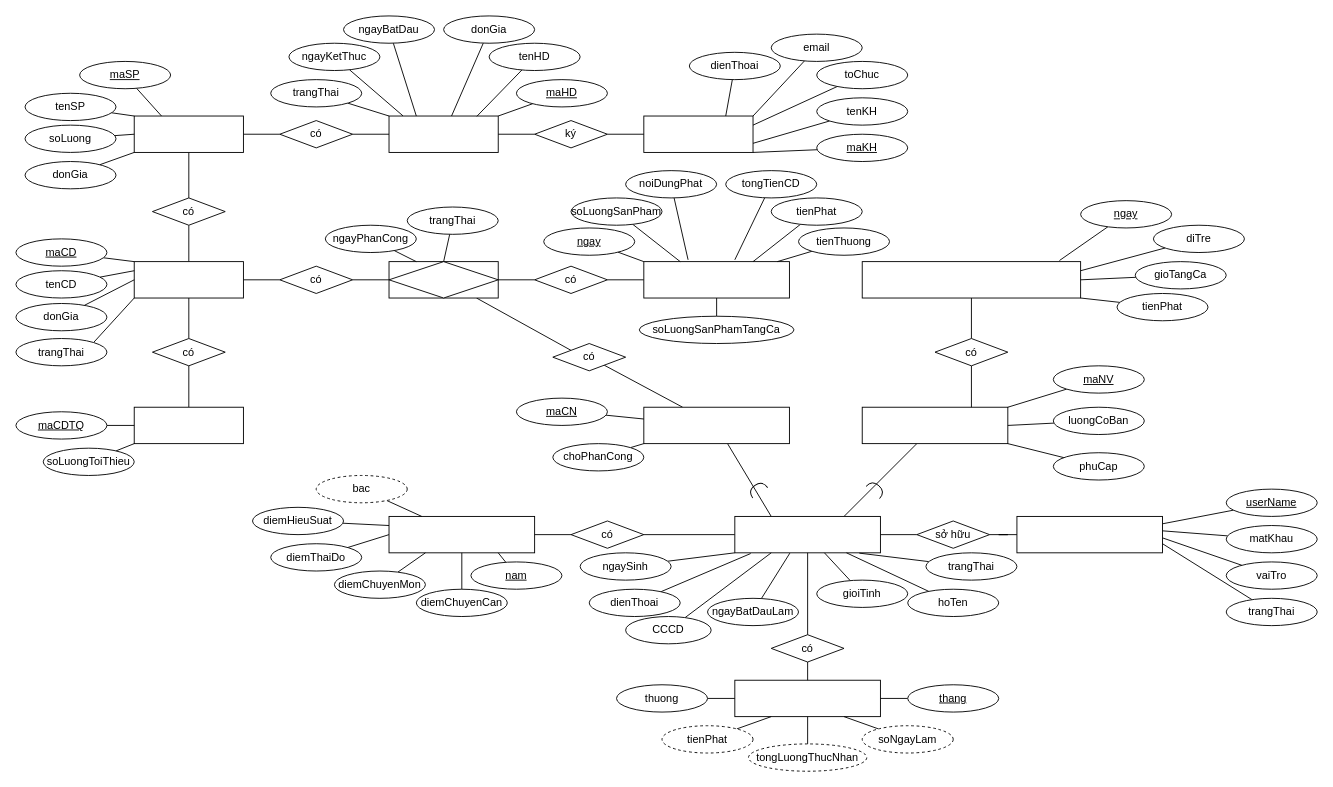
Some shapes in this 1333 by 787 pixel diagram are drawn without their labels. The centre of each missing label's shape, as x and y in pixels:
BangDanhGia: point (461, 534)
ChiTietPhanCong: point (443, 279)
CongDoan: point (188, 279)
CongDoanTienQuyet: point (188, 425)
CongNhan: point (716, 425)
HopDong: point (443, 133)
KhachHang: point (698, 133)
NhanVien: point (934, 425)
PhieuChamCong_1Ngay: point (716, 279)
PhieuChamCong_1thang: point (807, 698)
PhieuChamCongHanhChinh_1Ngay: point (971, 279)
SanPham: point (188, 133)
TaiKhoan: point (1089, 534)
ThanhVien: point (807, 534)
